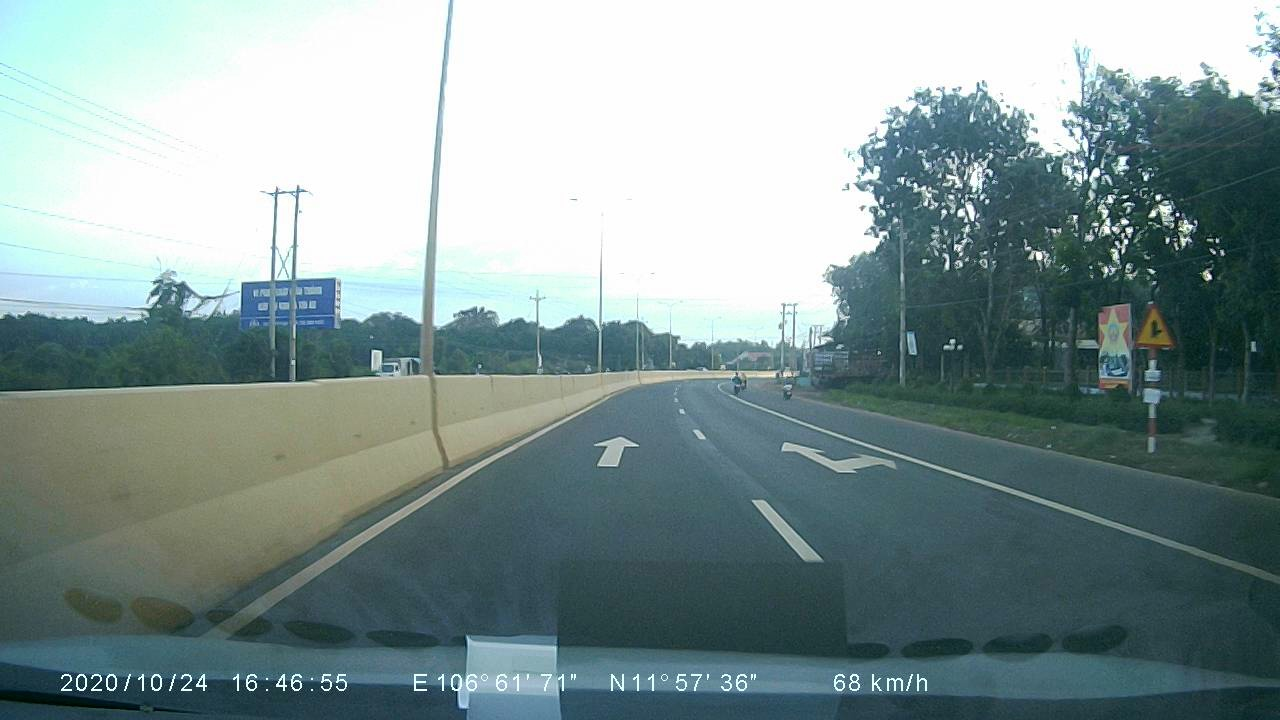Giao nhau voi duong khong uu tien: (1126, 298, 1174, 349)
